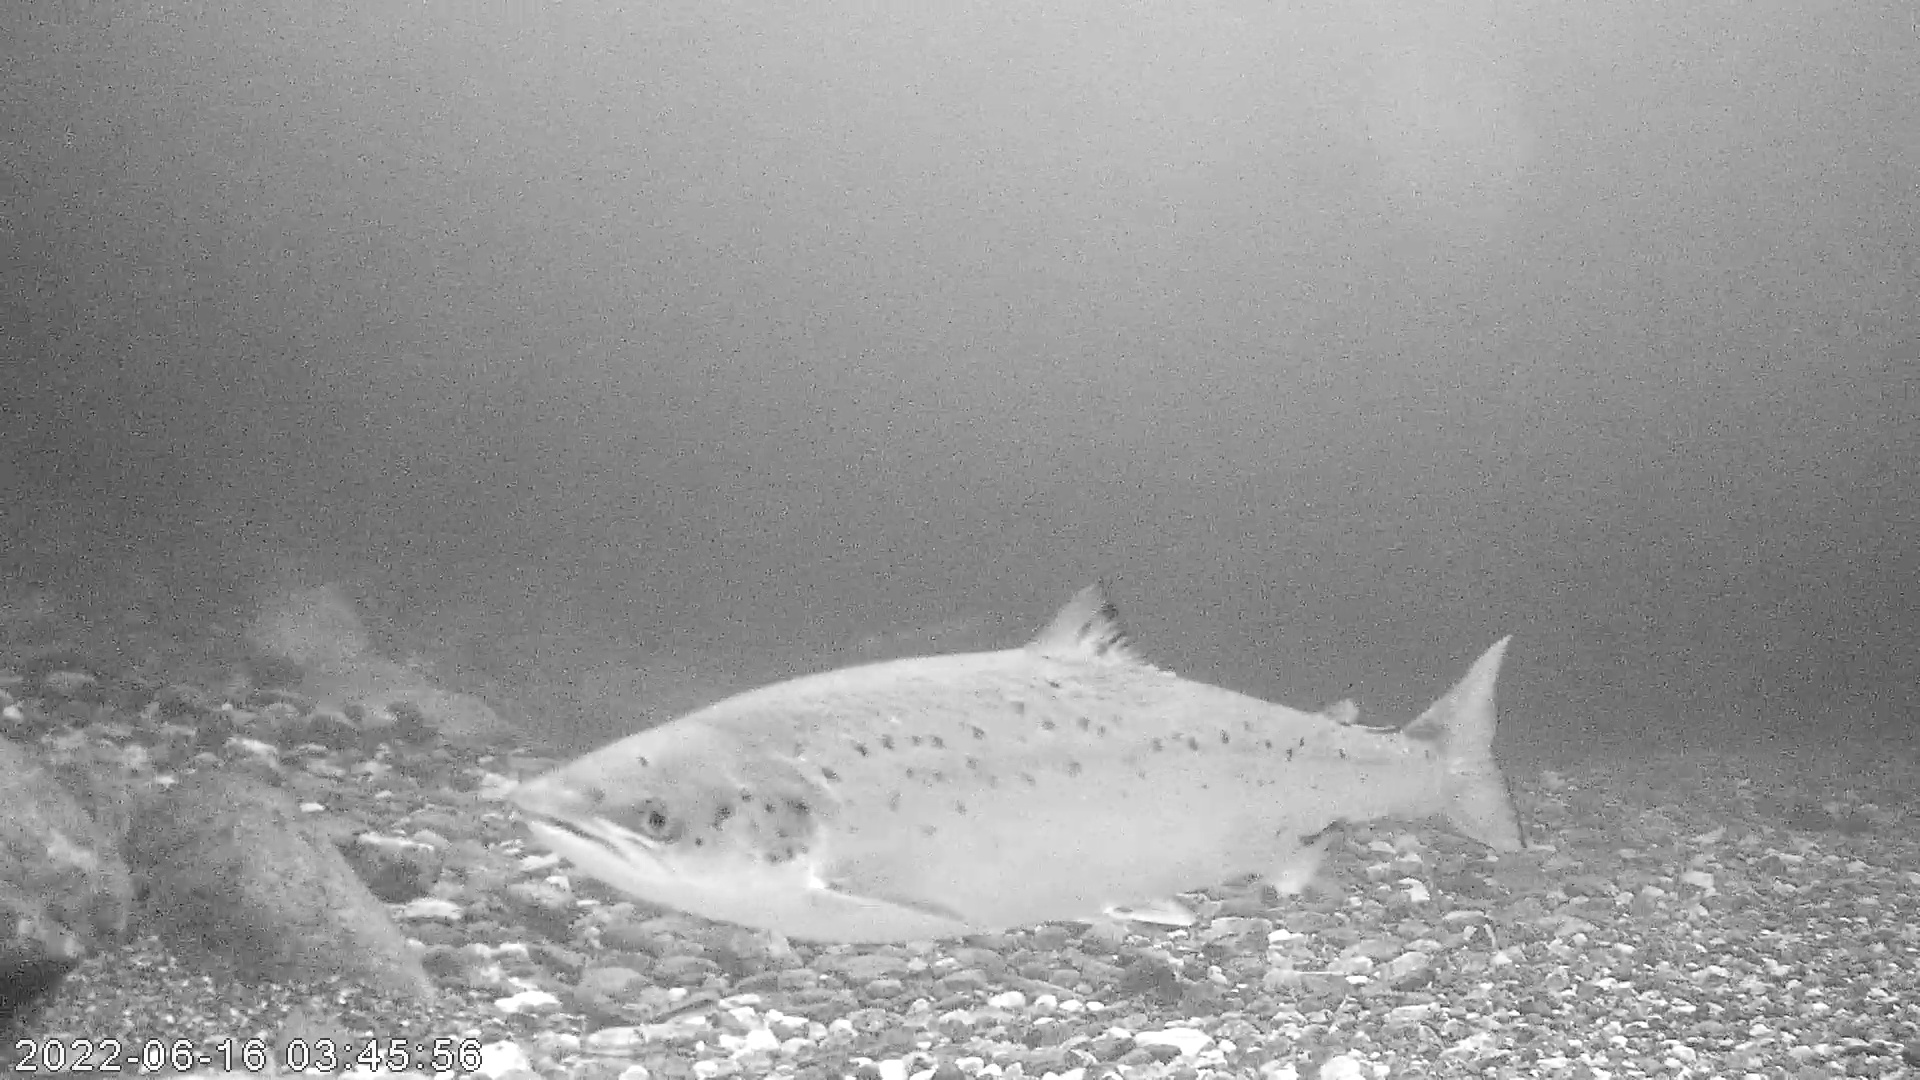salmon: (514, 574, 1528, 942)
